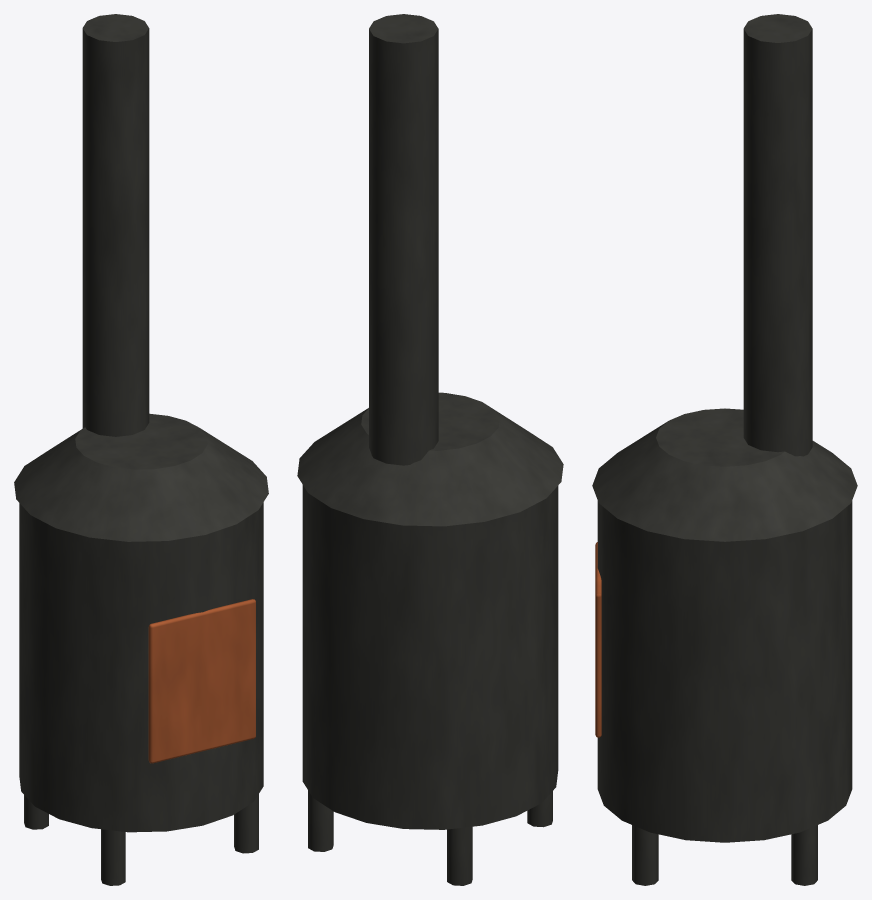
File: Furn_DecorStove.fbx
3 views of the same model, side by side, from view 1: azimuth 30°, elevation 25°; view 2: azimuth 150°, elevation 25°; view 3: azimuth 270°, elevation 25° (orthographic). The views are drawn at different scales.
Visible parts, largest first — view 1: Furn_DecorStove_Mesh; view 2: Furn_DecorStove_Mesh; view 3: Furn_DecorStove_Mesh.
Part boxes in pixels (bbox=[...]): Furn_DecorStove_Mesh: bbox=[14, 14, 268, 885]; Furn_DecorStove_Mesh: bbox=[297, 14, 563, 885]; Furn_DecorStove_Mesh: bbox=[592, 14, 857, 885].
Bounding box in the file's own units: 0.5 × 1.7 × 0.5.
2 materials, 2 textured.
